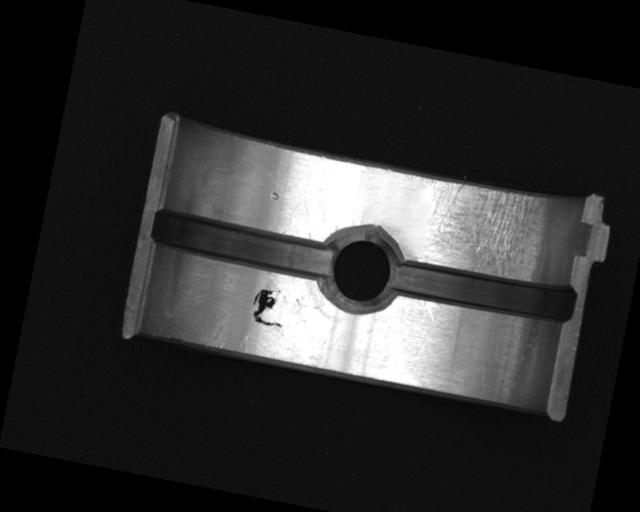blot: (247, 282, 291, 331)
bruise: (268, 190, 280, 201)
gap: (145, 203, 338, 284), (389, 254, 580, 327)
hole: (314, 218, 412, 320)
nick: (419, 299, 439, 322)
scratch: (413, 174, 561, 287)
